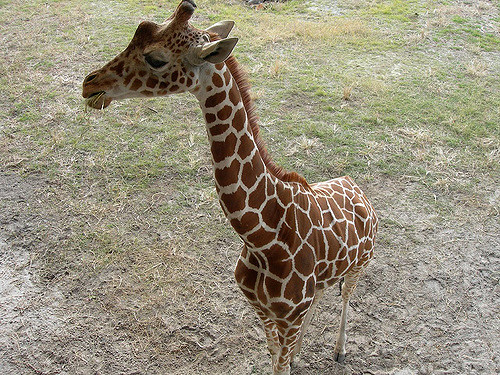giraffe: (81, 5, 388, 350)
